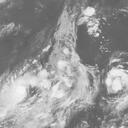cyclone: (47, 53, 87, 98), (105, 62, 127, 97), (4, 74, 26, 102)
